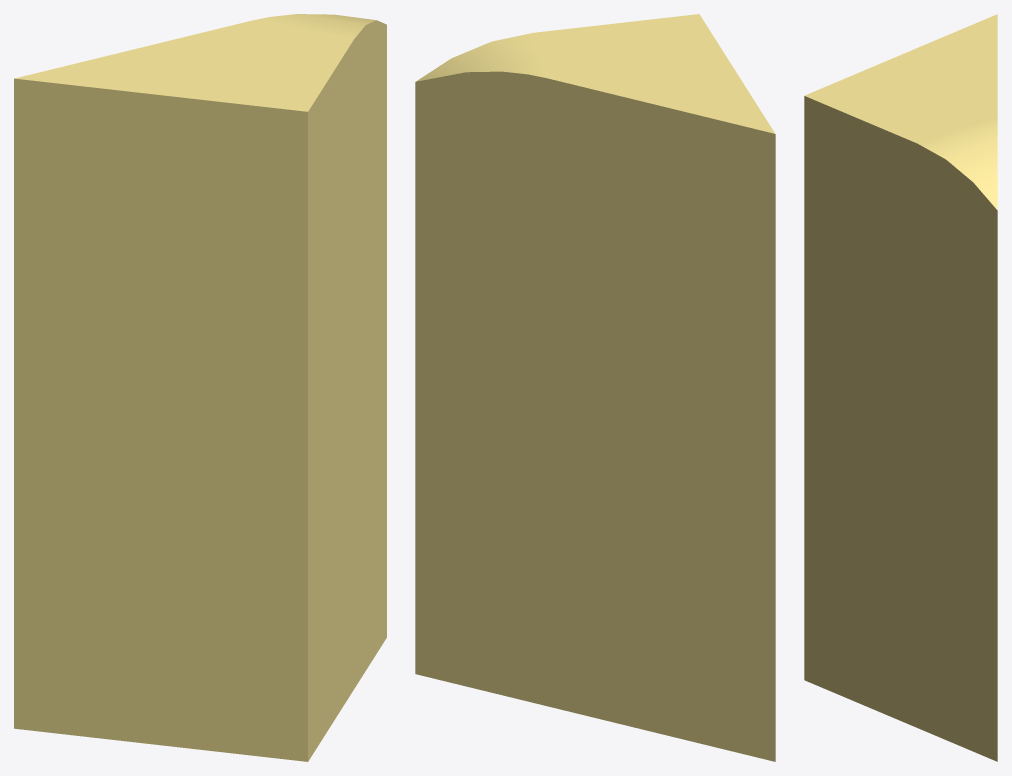
The model's file is Corner_Concave_Center.glb.
The picture shows the model from 3 angles, left to right: view 1: azimuth 30°, elevation 25°; view 2: azimuth 150°, elevation 25°; view 3: azimuth 270°, elevation 25°; orthographic projection. The views are drawn at different scales.
Parts seen in each view (by area): view 1: Corner_Concave_Center; view 2: Corner_Concave_Center; view 3: Corner_Concave_Center.
Part boxes in pixels (x1=…): Corner_Concave_Center: x1=14, y1=14, x2=386, y2=761; Corner_Concave_Center: x1=415, y1=14, x2=775, y2=761; Corner_Concave_Center: x1=804, y1=14, x2=997, y2=761.
Size of the model in its own units: 0.3 by 0.5 by 0.15.
